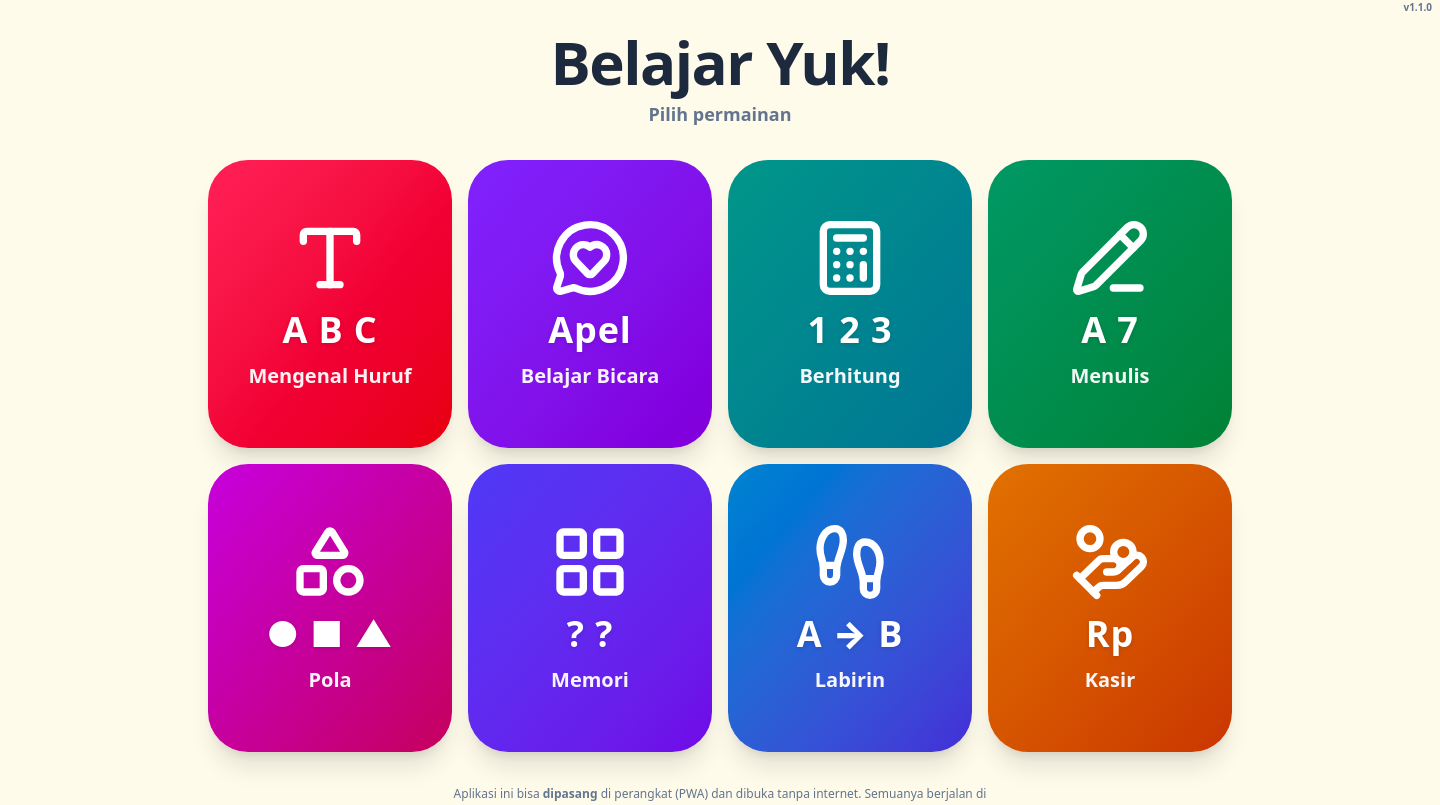
Test: Memori › the hints › start guided for a new child: every card shows for a few seconds, then turns down
Click the button "? ? Memori" at (590, 608), box [468,464,712,752]
Wait 3800 ms
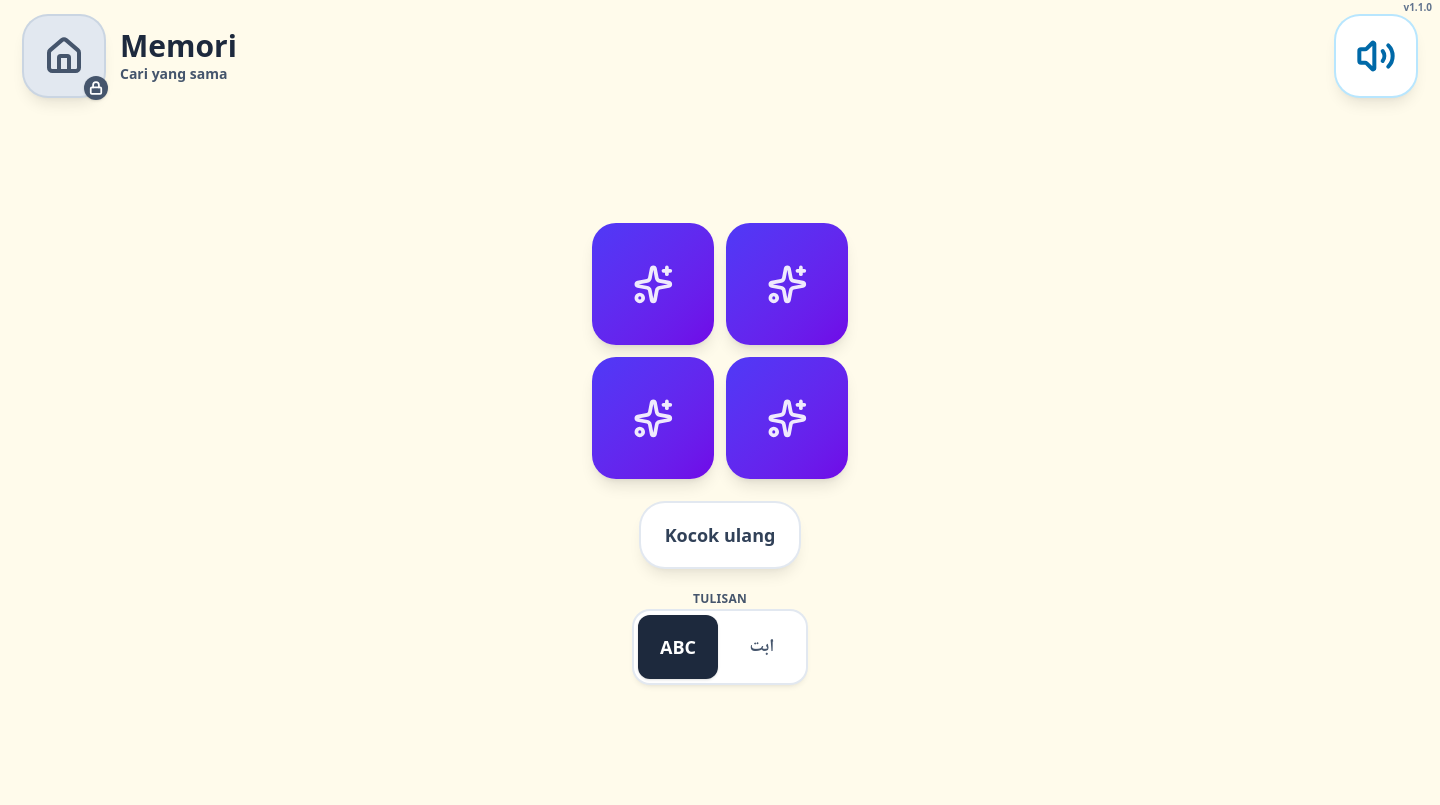
expect the element named "Kartu, lihat dulu" is shown: met, box [592,223,848,479]
